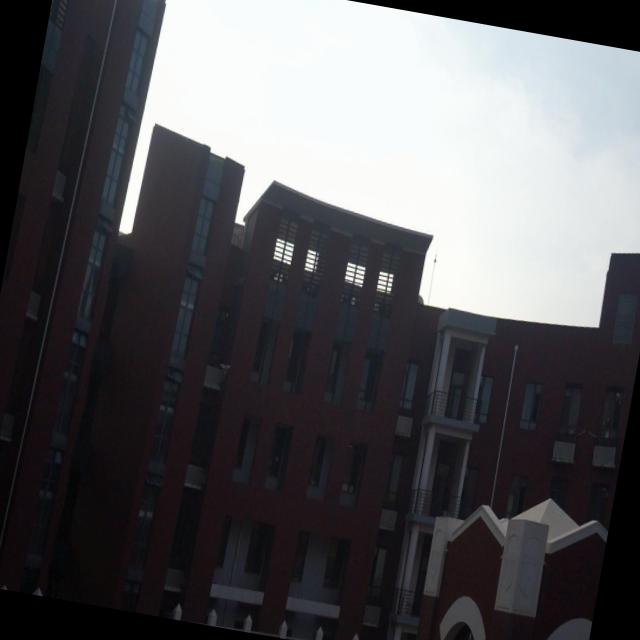drone: (216, 357, 234, 378)
